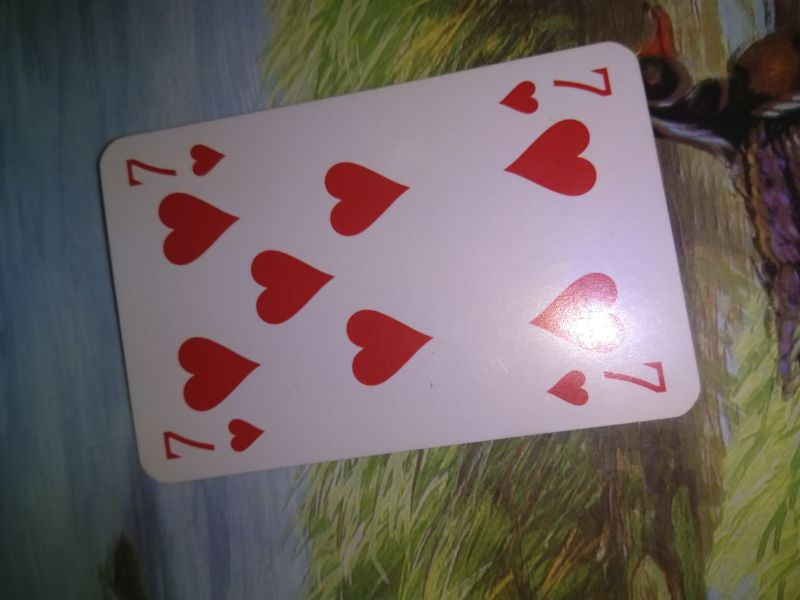7h: (541, 354, 676, 411), (490, 63, 622, 117), (152, 412, 271, 464), (120, 140, 232, 188)
